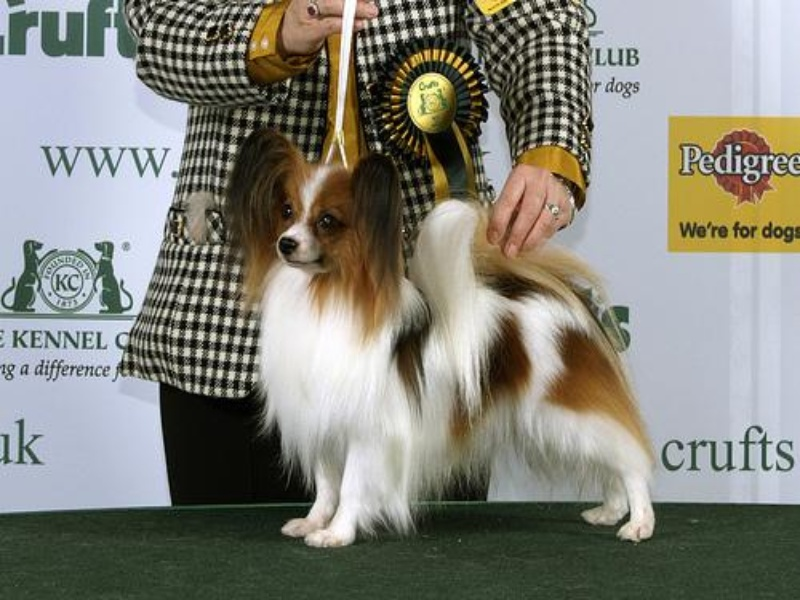hands: (482, 162, 571, 262), (275, 1, 386, 54)
